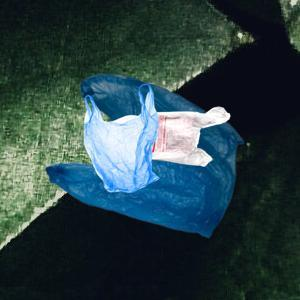plastic_bag: (43, 72, 247, 241), (77, 82, 162, 195), (147, 105, 232, 168)
